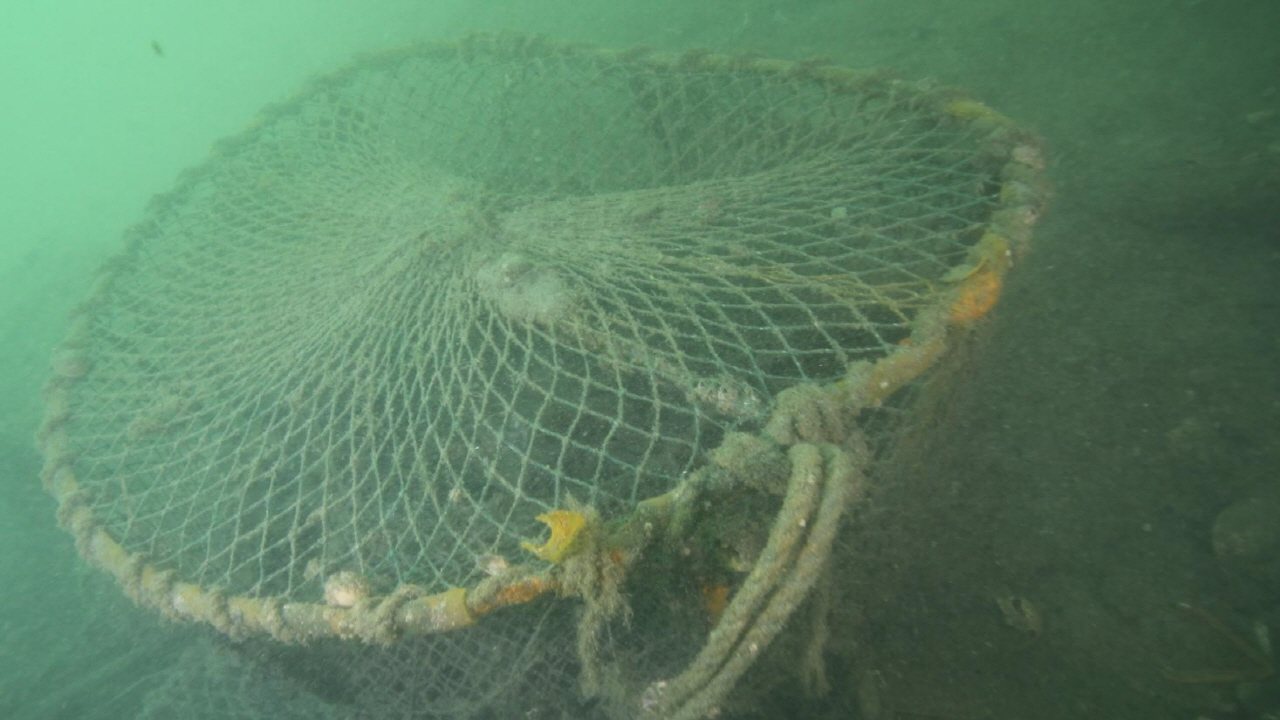bundle of ropes: (639, 439, 854, 720)
circular fish trap: (39, 31, 1045, 720)
